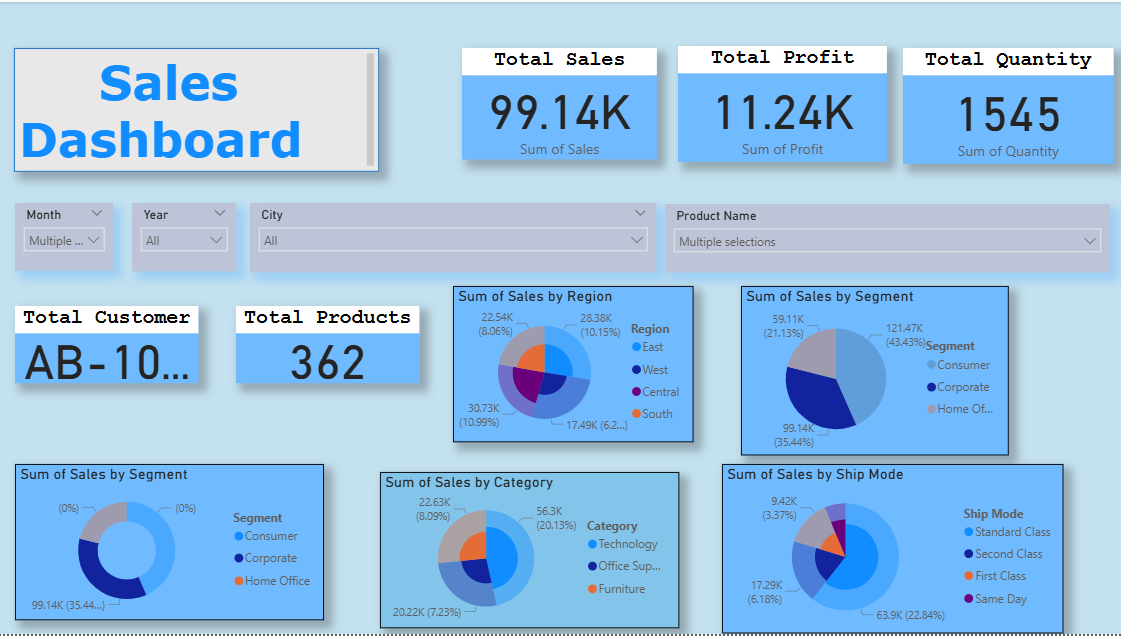

The page's visual inventory and layout, read from the dashboard file:
{"tool":"powerbi","page":{"name":"Page 1","canvas":[1280,720],"ordinal":0},"visuals":[{"type":"textbox","box":[18.2,52.4,415.8,141.3],"z":0},{"type":"slicer","fields":{"Values":["excel files.City"]},"box":[287,229.1,463.5,79.5],"z":1000},{"type":"slicer","fields":{"Values":["excel files.Product Name"]},"box":[759.9,230.4,506.6,78.1],"z":2000},{"type":"slicer","fields":{"Values":["excel files.Order Date.Variation.Date Hierarchy.Month"]},"box":[18.9,229.1,111.8,76.8],"z":3000},{"type":"slicer","fields":{"Values":["excel files.Order Date.Variation.Date Hierarchy.Year"]},"box":[152.3,229.1,118.6,78.1],"z":4000},{"type":"card","title":"Total Sales","fields":{"Values":["Sum(excel files.Sales)"]},"box":[528.2,52.5,222.3,126.7],"z":5000},{"type":"card","title":"Total Profit","fields":{"Values":["Sum(excel files.Profit)"]},"box":[774.7,49.9,238.5,132],"z":6000},{"type":"card","title":"Total Quantity","fields":{"Values":["Sum(excel files.Quantity)"]},"box":[1030.7,52.5,239.8,132],"z":7000},{"type":"card","title":"Total Customer","fields":{"Values":["Min(excel files.Customer ID)"]},"box":[18.9,346.3,208.8,87.6],"z":8000},{"type":"card","title":"Total Products","fields":{"Values":["Count(excel files.Product ID)"]},"box":[270.8,346.3,208.8,87.6],"z":9000},{"type":"pieChart","fields":{"Y":["Sum(excel files.Sales)"],"Category":["excel files.Category"]},"box":[435.2,534.9,340.9,177.9],"z":10000},{"type":"pieChart","fields":{"Y":["Sum(excel files.Sales)"],"Category":["excel files.Region"]},"box":[518.7,323.4,273.5,177.9],"z":11000},{"type":"pieChart","fields":{"Y":["Sum(excel files.Sales)"],"Category":["excel files.Segment"]},"box":[846.1,323.4,304.5,192.7],"z":12000},{"type":"donutChart","fields":{"Y":["Sum(excel files.Sales)"],"Category":["excel files.Segment"]},"box":[18.9,526.8,351.7,177.9],"z":12001},{"type":"pieChart","fields":{"Y":["Sum(excel files.Sales)"],"Category":["excel files.Ship Mode"]},"box":[824.6,526.8,389.4,192.7],"z":12002}]}

Visuals, with their boxes in screenshot pixels (x1, y1, x2, y2), scaled from the page's 1280x720 canvas onto the 1121x636 screenshot:
textbox: <box>16,46,380,171</box>
slicer - excel files.City: <box>251,202,657,273</box>
slicer - excel files.Product Name: <box>666,204,1109,273</box>
slicer - excel files.Order Date.Variation.Date Hierarchy.Month: <box>17,202,114,270</box>
slicer - excel files.Order Date.Variation.Date Hierarchy.Year: <box>133,202,237,271</box>
"Total Sales" card: <box>463,46,657,158</box>
"Total Profit" card: <box>678,44,887,161</box>
"Total Quantity" card: <box>903,46,1113,163</box>
"Total Customer" card: <box>17,306,199,383</box>
"Total Products" card: <box>237,306,420,383</box>
pieChart - Sum(excel files.Sales) x excel files.Category: <box>381,472,680,630</box>
pieChart - Sum(excel files.Sales) x excel files.Region: <box>454,286,694,443</box>
pieChart - Sum(excel files.Sales) x excel files.Segment: <box>741,286,1008,456</box>
donutChart - Sum(excel files.Sales) x excel files.Segment: <box>17,465,325,622</box>
pieChart - Sum(excel files.Sales) x excel files.Ship Mode: <box>722,465,1063,635</box>
